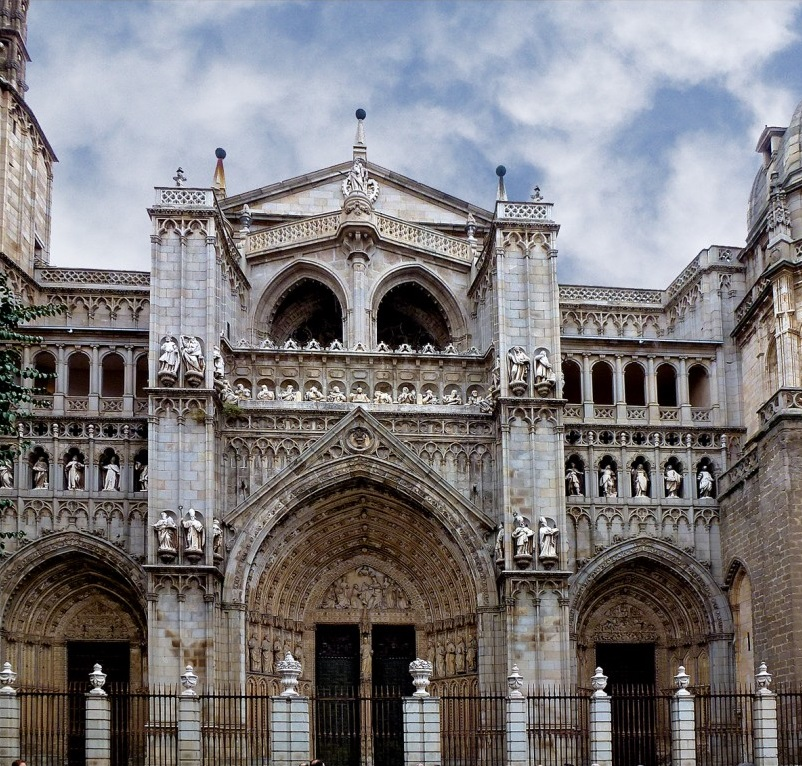arco-apuntado: (219, 452, 503, 610), (1, 527, 147, 642), (568, 536, 733, 633)
